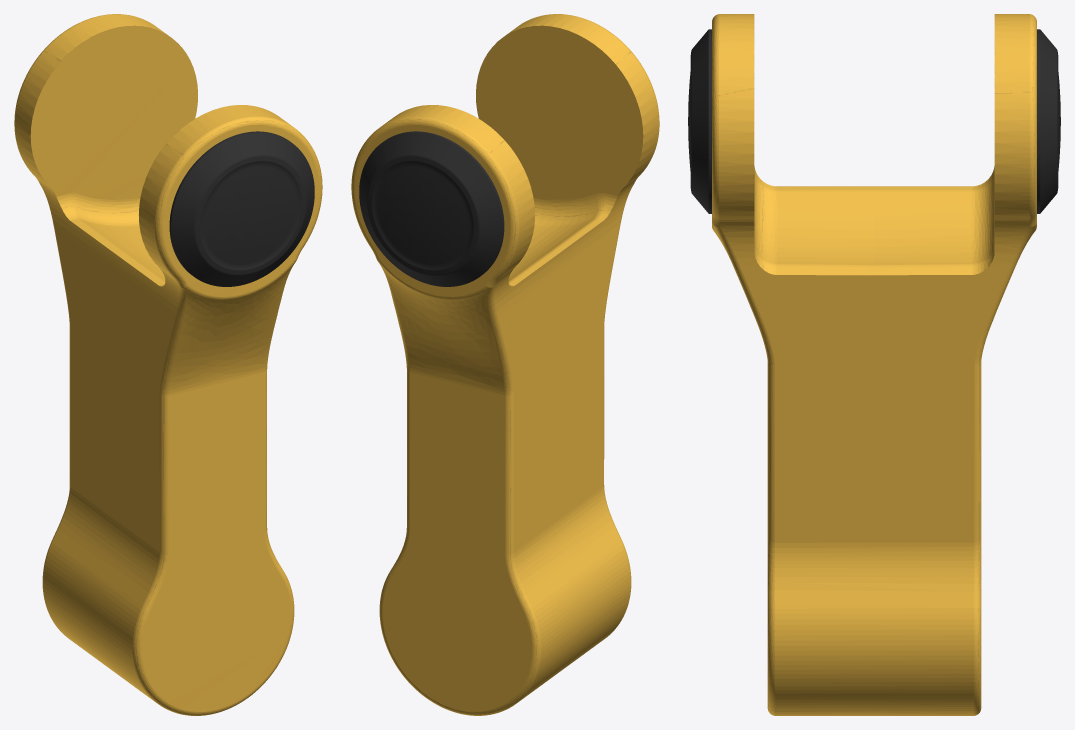
File: torso2.glb
The picture shows the model from 3 angles, left to right: view 1: azimuth 30°, elevation 25°; view 2: azimuth 150°, elevation 25°; view 3: azimuth 270°, elevation 25°; orthographic projection. The views are drawn at different scales.
Visible parts, largest first — view 1: torso2; view 2: torso2; view 3: torso2.
Boxes of the visible parts, left/top/right/bottom form: torso2: left=14, top=14, right=322, bottom=715; torso2: left=351, top=14, right=659, bottom=715; torso2: left=688, top=14, right=1060, bottom=715.
Bounding box in the file's own units: 0.135 × 0.4725 × 0.234.
Materials: 1 (1 with a texture image).
